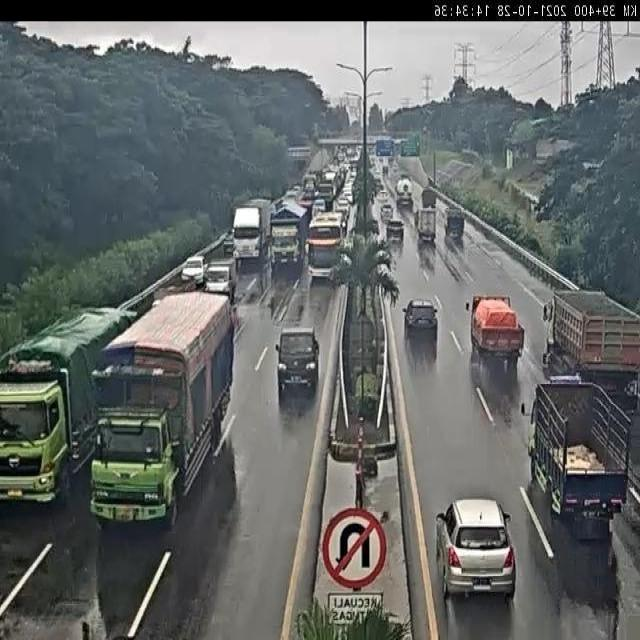Car: (427, 466, 530, 614), (403, 298, 439, 358), (203, 258, 237, 300), (386, 218, 405, 245)
Truck: (92, 290, 234, 527), (0, 306, 127, 510), (526, 378, 630, 540), (544, 290, 640, 419), (527, 380, 582, 465), (469, 294, 525, 376), (275, 326, 320, 399), (346, 301, 378, 390), (231, 202, 271, 272), (268, 219, 302, 274), (351, 371, 383, 429), (281, 196, 314, 240), (270, 264, 298, 311), (154, 276, 200, 304), (504, 131, 538, 165), (535, 137, 575, 163), (374, 260, 398, 300), (472, 294, 512, 316), (181, 255, 206, 288), (416, 206, 436, 243), (128, 292, 156, 318), (418, 241, 437, 275), (444, 208, 464, 240), (544, 304, 555, 362), (444, 232, 464, 262), (421, 112, 431, 171), (359, 211, 380, 238), (336, 252, 353, 285), (396, 179, 414, 209), (316, 136, 354, 150), (242, 276, 260, 305), (288, 148, 312, 169), (245, 196, 274, 213), (528, 400, 536, 460), (378, 159, 393, 189), (354, 464, 364, 508), (361, 454, 378, 478), (576, 87, 600, 104), (357, 147, 372, 173), (548, 373, 582, 384), (374, 249, 392, 269), (523, 192, 540, 213), (323, 170, 338, 192), (229, 298, 239, 331), (287, 136, 312, 149), (336, 208, 348, 235), (380, 201, 394, 224), (388, 237, 403, 258), (337, 164, 349, 190), (312, 197, 326, 219), (422, 187, 436, 209), (223, 232, 235, 256), (337, 192, 351, 212), (461, 148, 481, 162), (372, 156, 383, 180), (582, 160, 604, 172), (408, 134, 421, 154), (302, 176, 316, 194), (308, 169, 322, 187), (543, 301, 553, 326), (346, 147, 359, 166), (394, 138, 407, 157), (376, 189, 389, 207), (312, 336, 320, 364), (327, 264, 337, 286), (373, 172, 383, 192), (446, 206, 461, 219), (372, 187, 381, 207), (268, 294, 276, 316), (506, 148, 514, 170), (284, 189, 299, 200), (344, 189, 354, 205), (349, 165, 358, 182), (367, 142, 377, 157), (388, 152, 398, 167), (376, 136, 388, 148), (520, 404, 532, 416), (400, 174, 410, 188), (312, 122, 319, 142), (311, 188, 320, 203), (337, 151, 347, 164), (427, 176, 437, 188), (391, 160, 399, 174), (226, 229, 234, 242), (382, 161, 389, 175), (292, 185, 301, 193), (414, 210, 418, 228), (543, 304, 547, 321), (466, 302, 470, 310)
